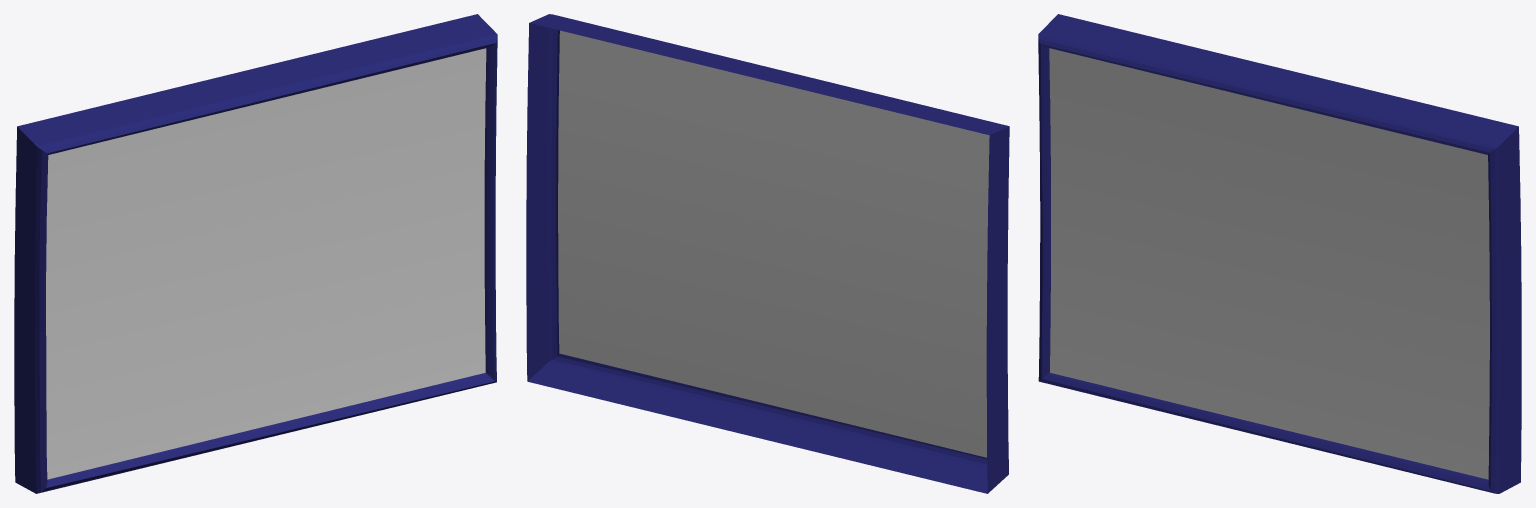
The model's file is MESH_billboard_V04.fbx.
3 views of the same model, side by side, from view 1: azimuth 30°, elevation 25°; view 2: azimuth 150°, elevation 25°; view 3: azimuth 330°, elevation 25° (orthographic).
Parts seen in each view (by area): view 1: MESH_billboard_metro_01; view 2: MESH_billboard_metro_01; view 3: MESH_billboard_metro_01.
Boxes of the visible parts, x1=… form: MESH_billboard_metro_01: x1=14, y1=14, x2=497, y2=493; MESH_billboard_metro_01: x1=526, y1=14, x2=1009, y2=493; MESH_billboard_metro_01: x1=1038, y1=14, x2=1521, y2=493.
Bounding box in the file's own units: 3.36 × 2.49 × 0.3352.
